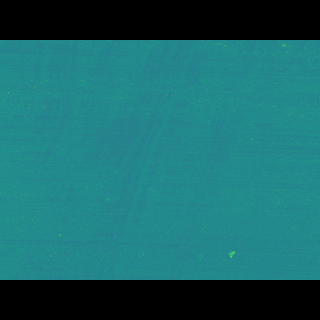Loch: (0, 70, 214, 245)
